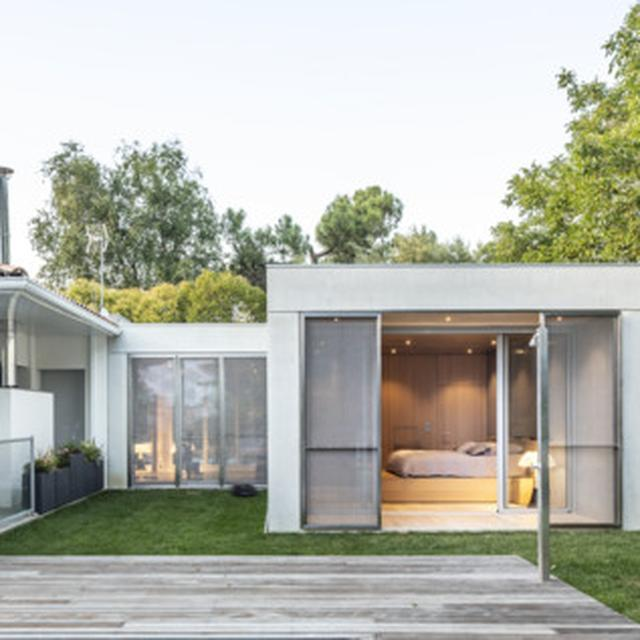building: (0, 244, 640, 557)
